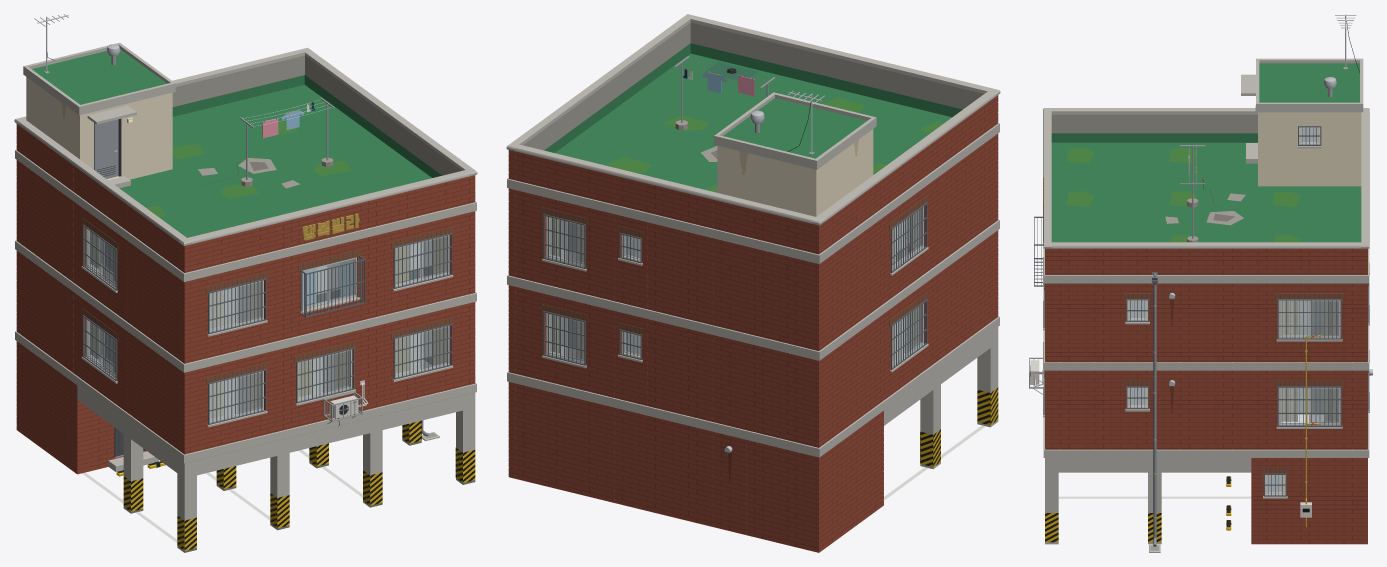
The model's file is SC_Bld_Villa_Prefab_Villa_3F.gltf.
The picture shows the model from 3 angles, left to right: view 1: azimuth 30°, elevation 25°; view 2: azimuth 150°, elevation 25°; view 3: azimuth 270°, elevation 25°; orthographic projection. The views are drawn at different scales.
Visible parts, largest first — view 1: SC_Bld_Villa_Prefab_Villa_3F; view 2: SC_Bld_Villa_Prefab_Villa_3F; view 3: SC_Bld_Villa_Prefab_Villa_3F.
Part boxes in pixels (x1,y1,x2,y2): SC_Bld_Villa_Prefab_Villa_3F: (14, 14, 477, 552); SC_Bld_Villa_Prefab_Villa_3F: (506, 14, 1000, 552); SC_Bld_Villa_Prefab_Villa_3F: (1029, 14, 1372, 552).
Size of the model in its own units: 10.06 by 12.86 by 10.
4 materials, 4 textured.
